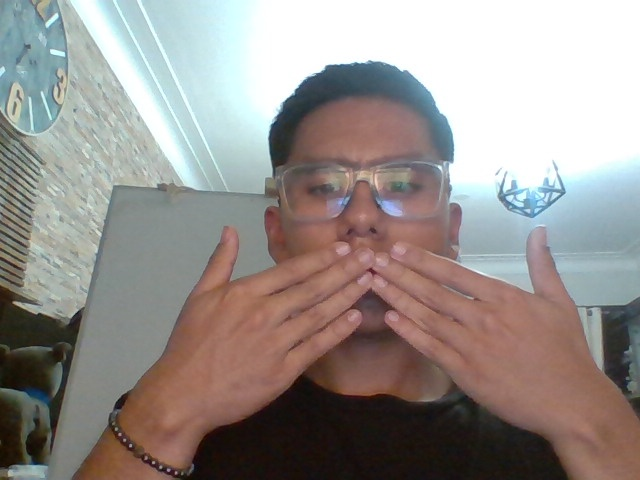Thanks: (162, 224, 611, 445)
